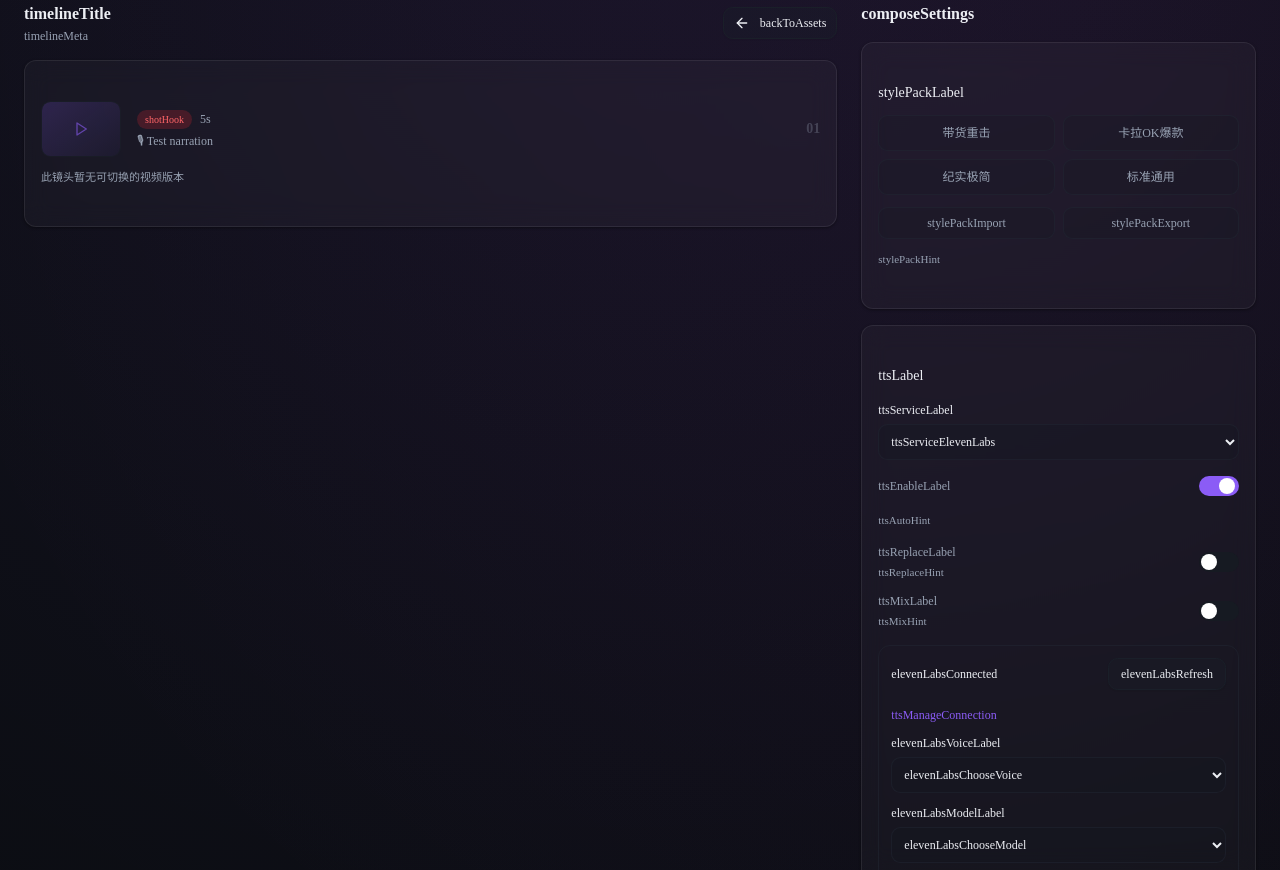
Scenario: settings-owned voice services › restores explicit project voice choices and validates them against the account again
Select "ttsServiceElevenLabs" in the dropdown labelled "ttsServiceLabel": (1059, 442) [878, 424, 1239, 460]
Select "My cloned voice · elevenLabsClonedVoice" in the dropdown labelled "elevenLabsVoiceLabel": (1059, 775) [891, 757, 1226, 793]
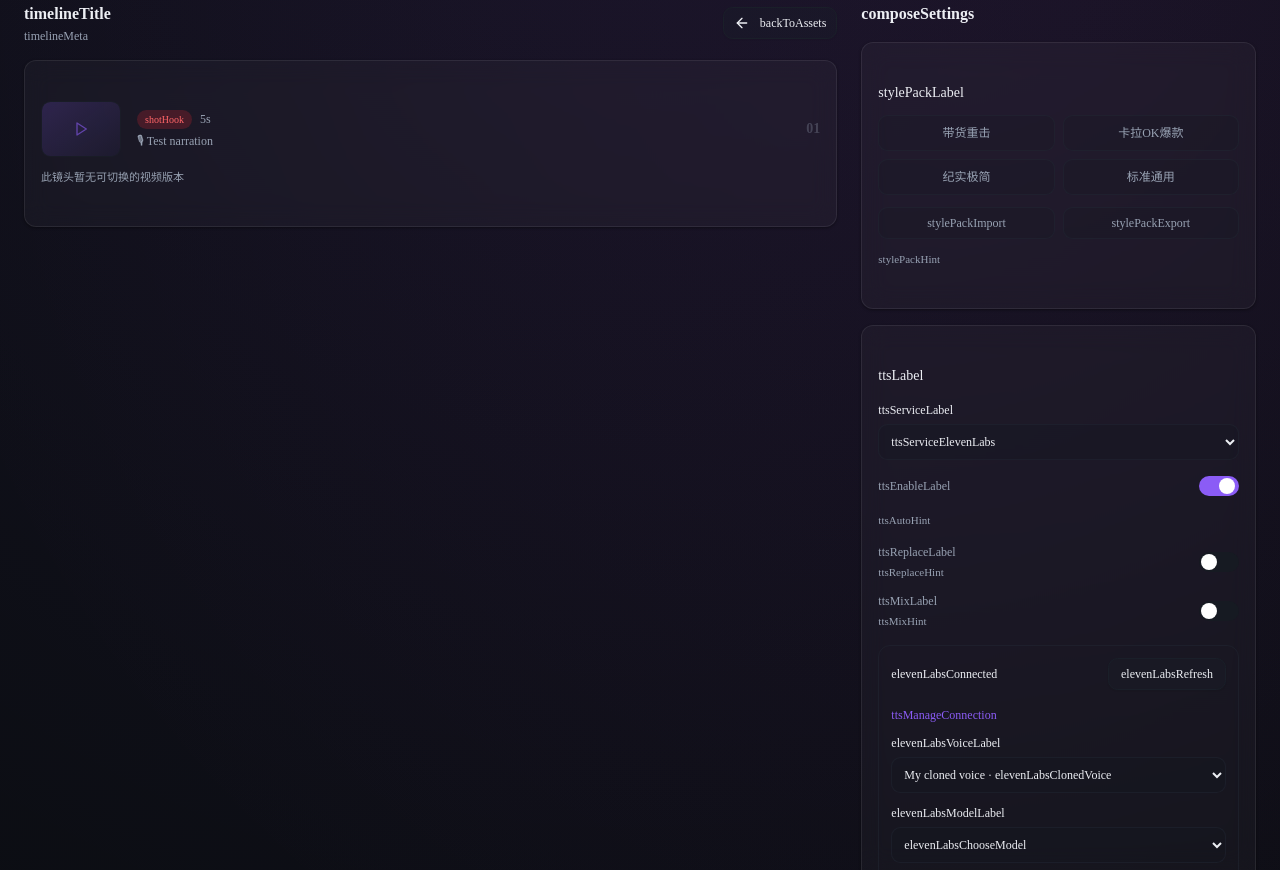
Select "Eleven Multilingual v2" in the dropdown labelled "elevenLabsModelLabel": (1059, 845) [891, 827, 1226, 863]
(page scrolled)
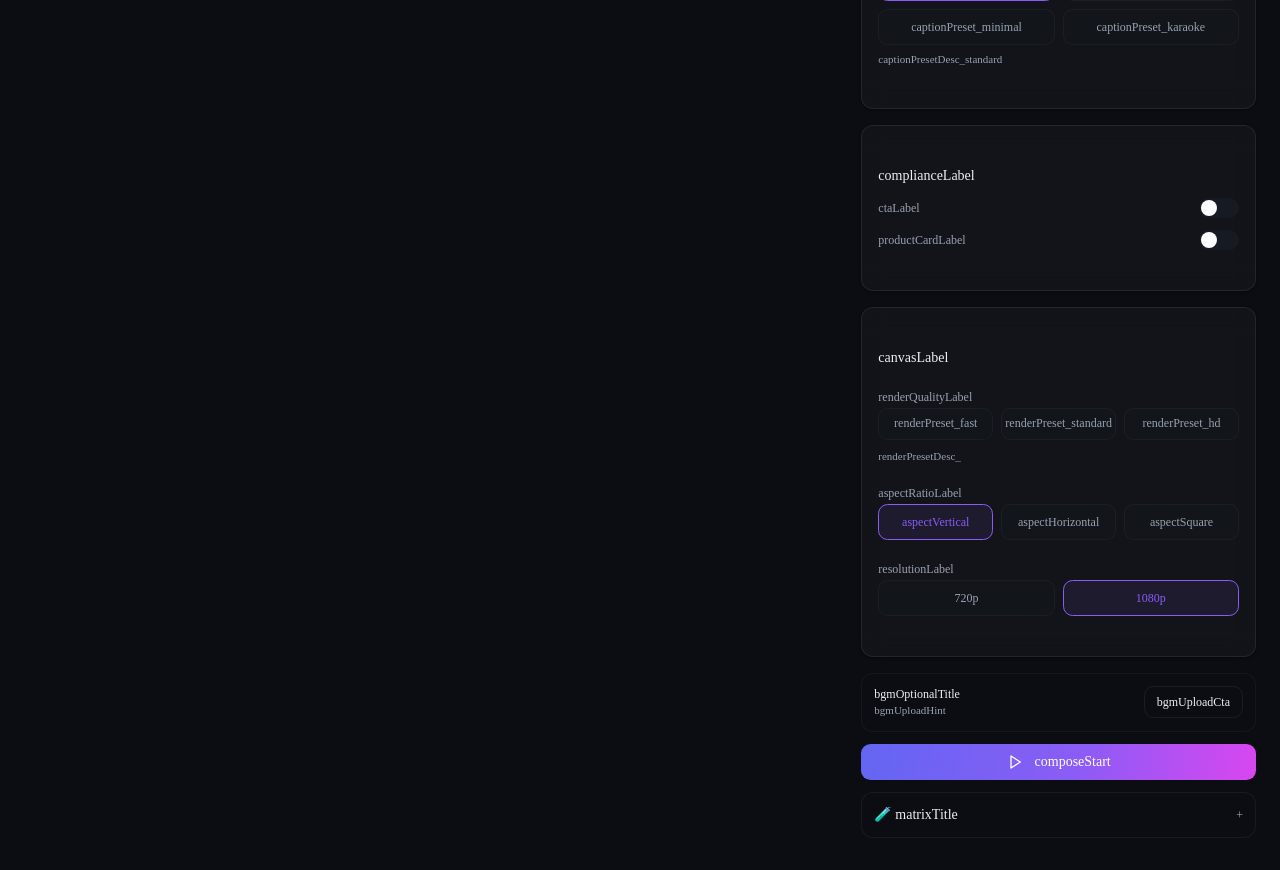
Expected: the button "composeStart" is enabled, [861, 744, 1256, 780]
